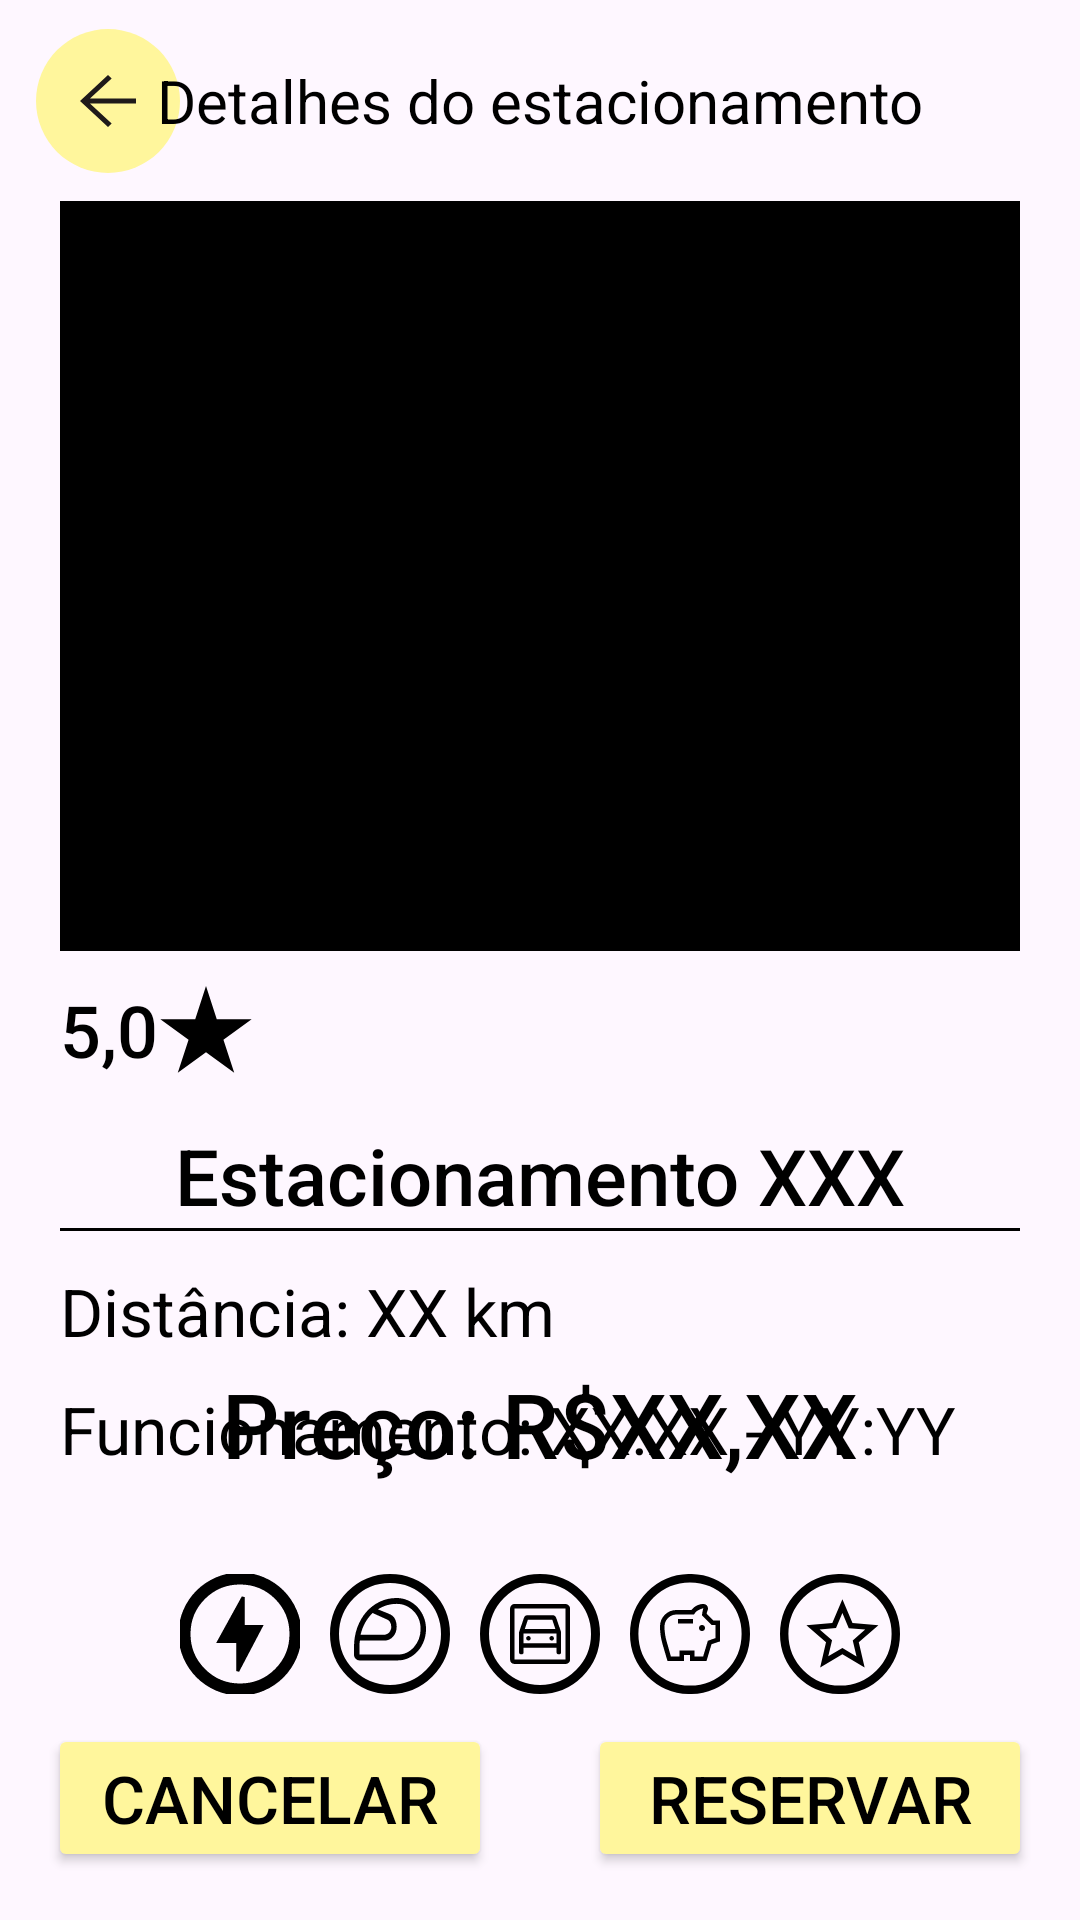

Named icons in this screenshot (1080w x 1920h) and their centers, point (x, y):
bem avaliado: point (840, 1634)
eletrico: point (240, 1634)
estrela: point (206, 1029)
moto: point (390, 1634)
voltar: point (108, 101)
